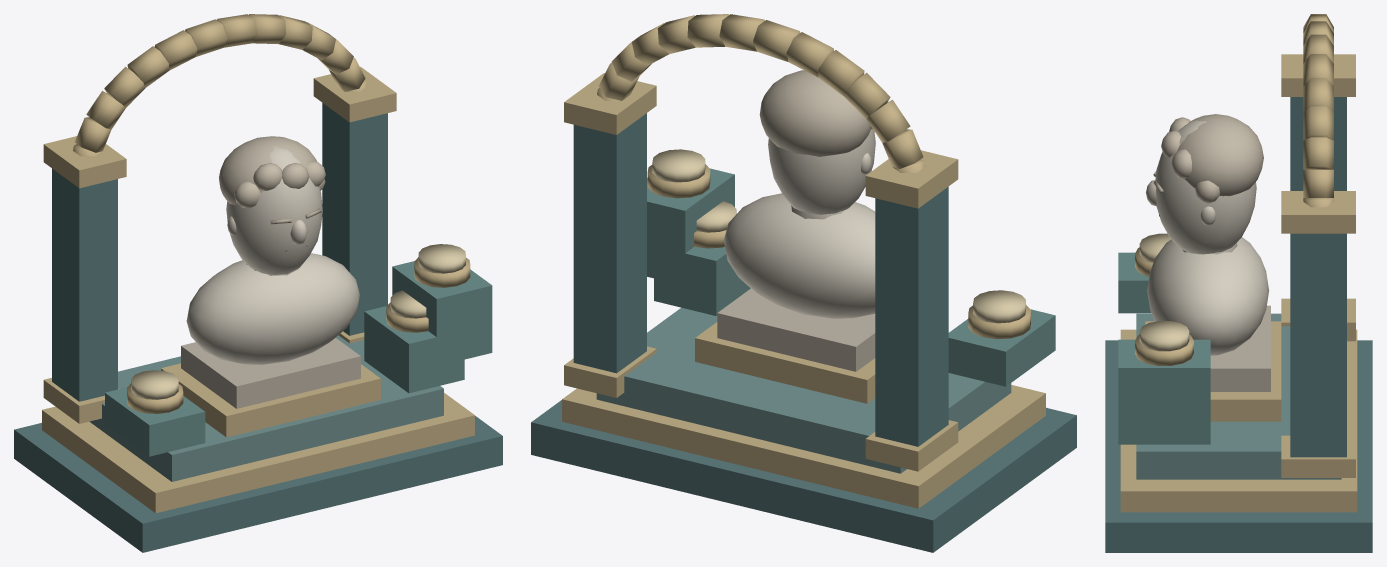
The model's file is ART-26.glb.
The picture shows the model from 3 angles, left to right: view 1: azimuth 30°, elevation 25°; view 2: azimuth 150°, elevation 25°; view 3: azimuth 270°, elevation 25°; orthographic projection. The views are drawn at different scales.
Parts seen in each view (by area): view 1: world; view 2: world; view 3: world.
Boxes of the visible parts, x1,y1,x2,y2 form: world: [14, 14, 502, 552]; world: [531, 14, 1076, 552]; world: [1105, 14, 1372, 552].
Bounding box in the file's own units: 1.83 × 2 × 1.13.
